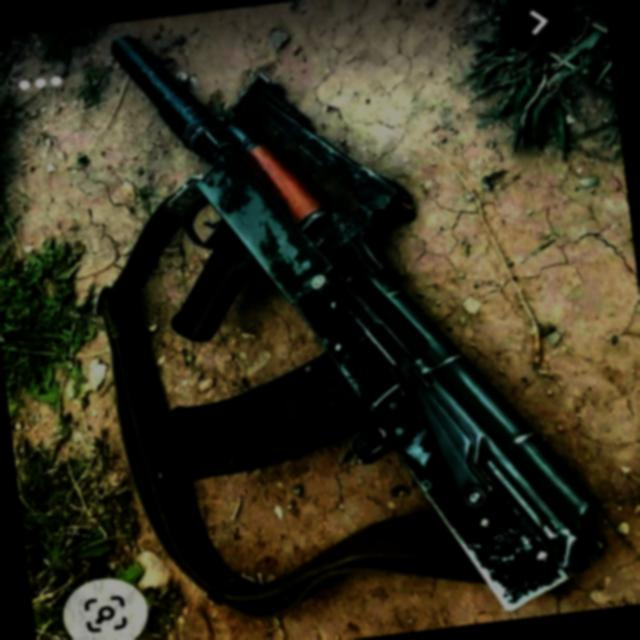m16: (120, 6, 404, 387)
